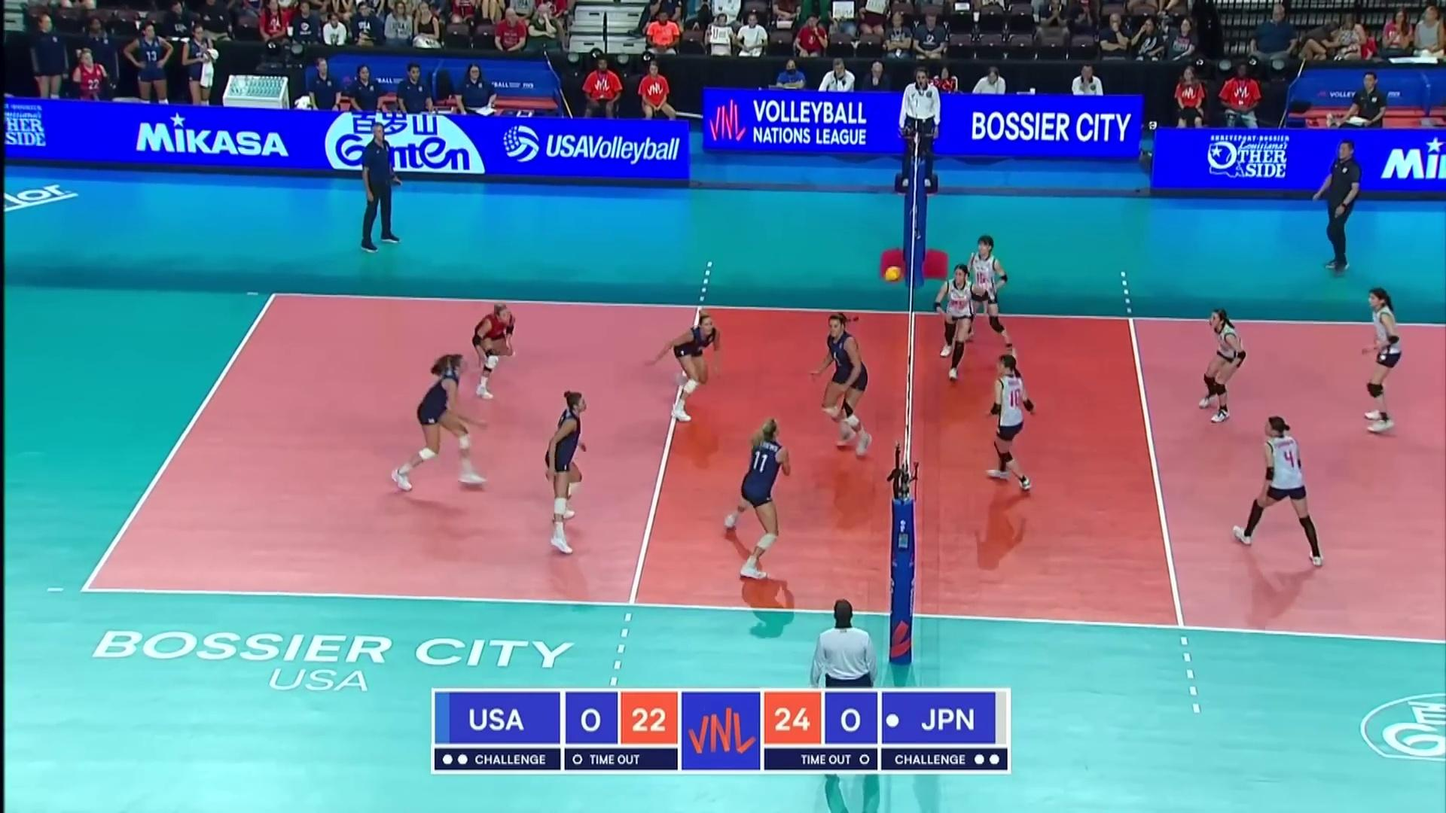player: (1232, 414, 1336, 560), (395, 353, 488, 492), (725, 421, 800, 579), (805, 312, 879, 456), (649, 315, 725, 425), (540, 389, 591, 552), (986, 354, 1042, 489), (1359, 289, 1409, 434), (958, 233, 1014, 359), (936, 262, 994, 383), (1195, 308, 1252, 424), (464, 304, 520, 403)
refree: (812, 600, 877, 778), (897, 70, 942, 187)
